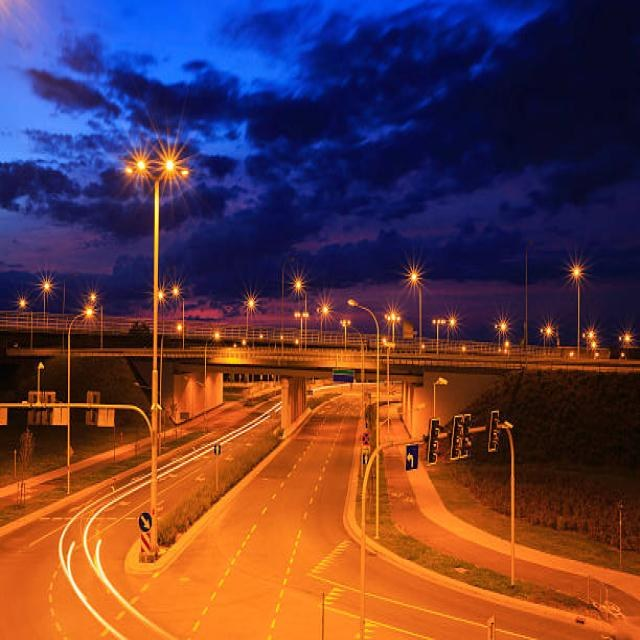acesa: (121, 139, 159, 185), (398, 251, 429, 297), (562, 252, 592, 288), (162, 146, 188, 187), (36, 271, 58, 316), (539, 316, 558, 352), (241, 285, 262, 316), (446, 310, 460, 349), (384, 304, 402, 330), (16, 292, 30, 322), (84, 288, 100, 312), (622, 328, 634, 351), (292, 276, 305, 296), (170, 282, 181, 298), (499, 320, 505, 330), (322, 304, 327, 314), (449, 318, 455, 324)
